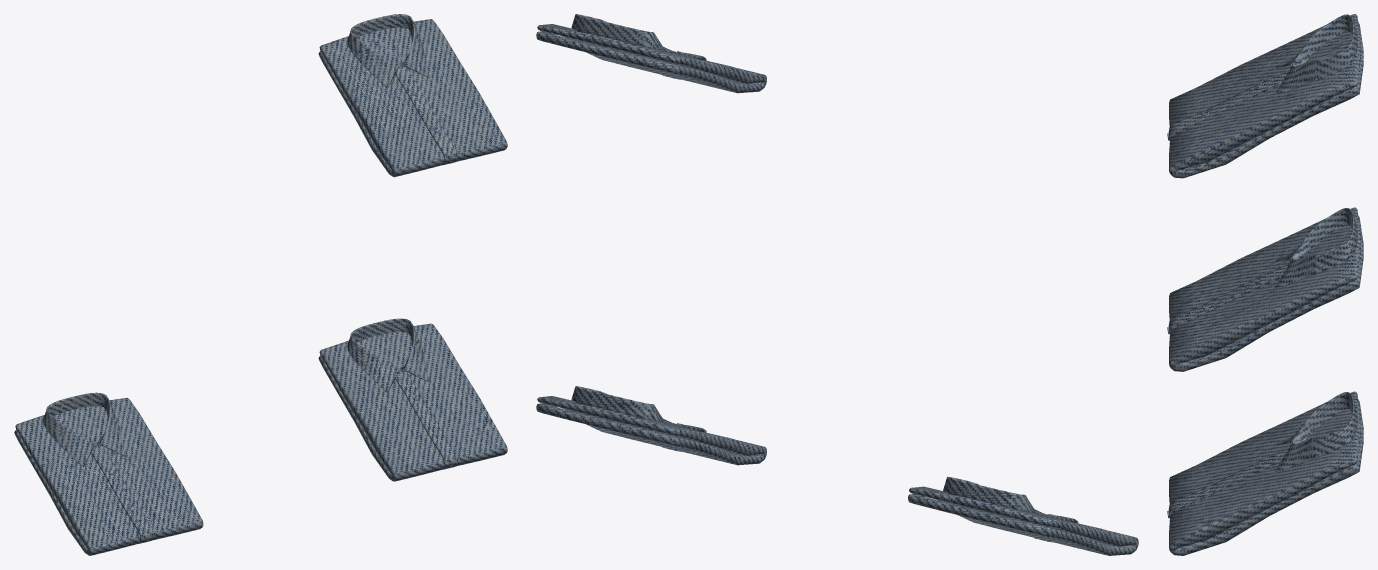
Rendered from chenshan07.fbx.
3 renders of one model, left to right at view 1: azimuth 30°, elevation 25°; view 2: azimuth 150°, elevation 25°; view 3: azimuth 270°, elevation 25°, orthographic. The views are drawn at different scales.
Parts seen in each view (by area): view 1: chenshan07; view 2: chenshan07; view 3: chenshan07.
Part boxes in pixels (x1,y1,x2,y2): chenshan07: (14, 14, 507, 555); chenshan07: (536, 14, 1138, 555); chenshan07: (1167, 14, 1363, 555).
Bounding box in the file's own units: 90.22 × 81.77 × 29.46.
